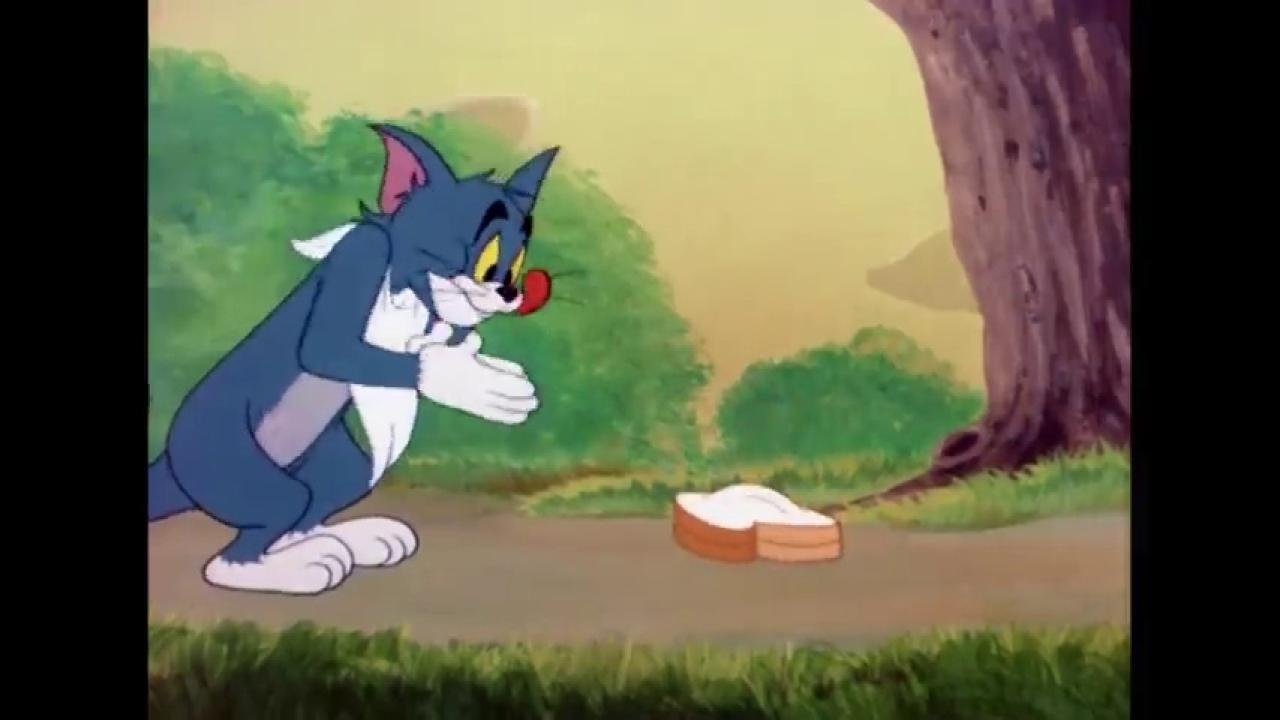Tom: (150, 120, 563, 598)
